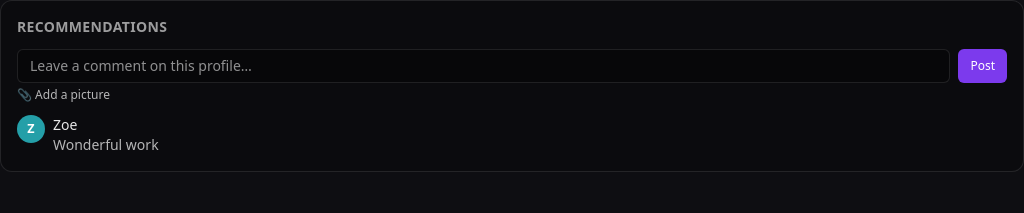
Test: ProfileComments (testimonials) › shows the server's message if posting fails (e.g. blocked)
This screenshot has width=1024, height=213.
Expected: the text "Wonderful work" is shown, [53,135,159,154]
Type "Hi" into the field with placeholder "Leave a comment on this profile…" at (484, 66), box [17,49,950,83]
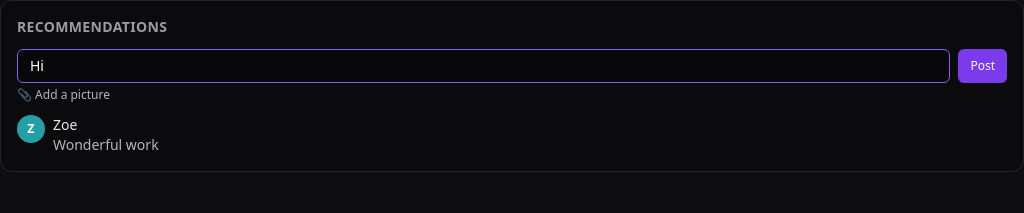
Click the button "Post" at (983, 66), box [958,49,1007,83]
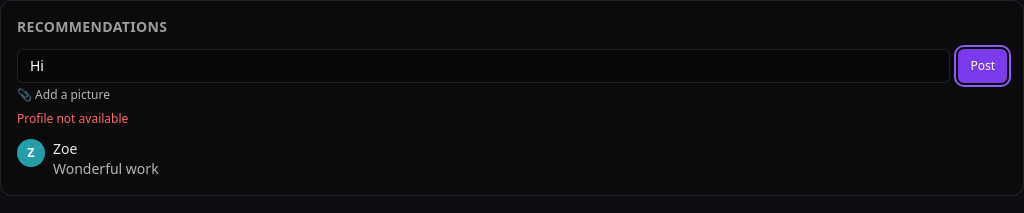
Result: the text "Profile not available" is shown at [17,110,128,127]
